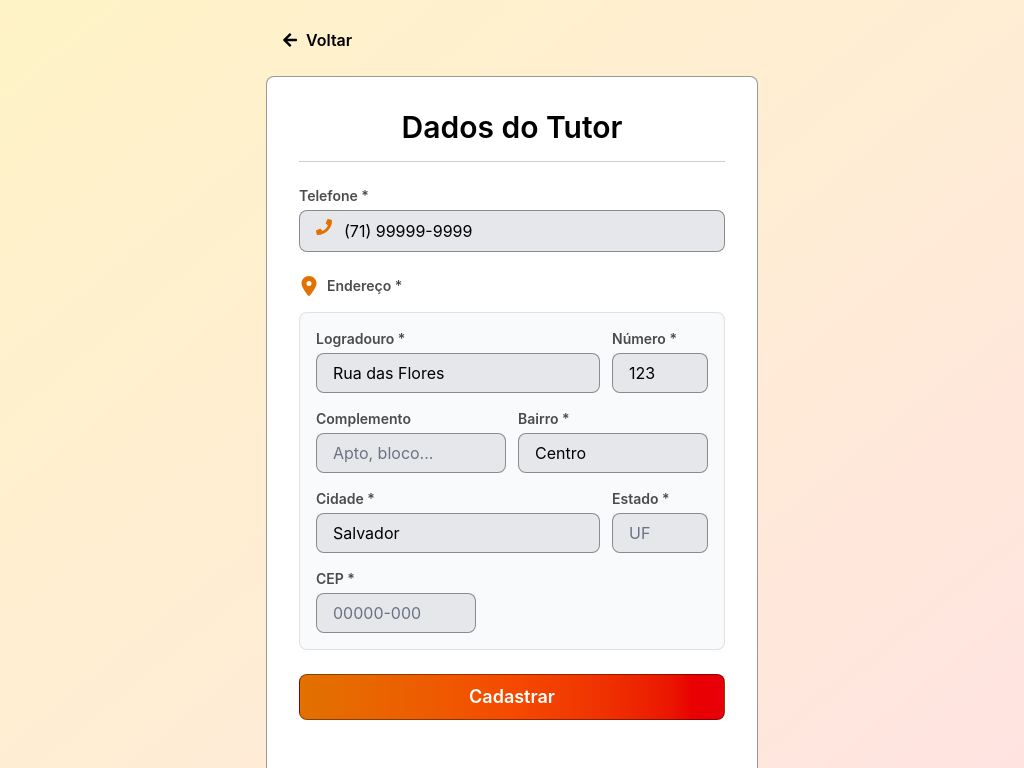
Scenario: shows error when state is empty
The width and height of the screenshot is (1024, 768).
Click the button "Cadastrar": (512, 697) 299,674 -> 725,720
(page scrolled)
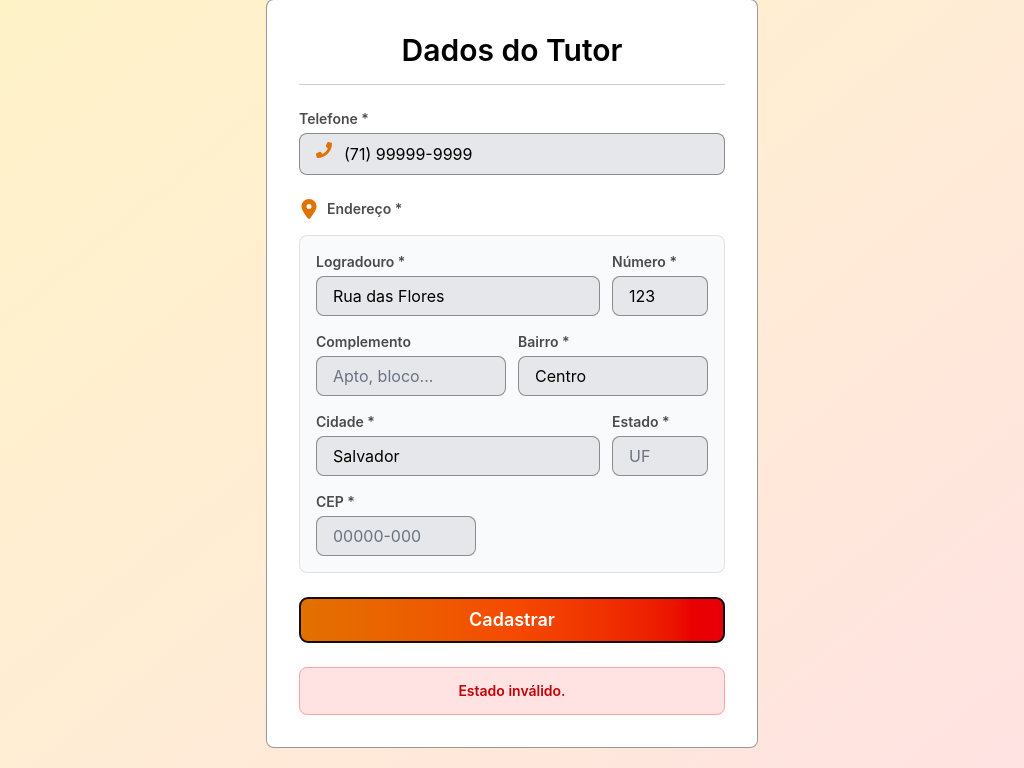
Result: the text "Estado inválido." is shown at 299,667 -> 725,715
